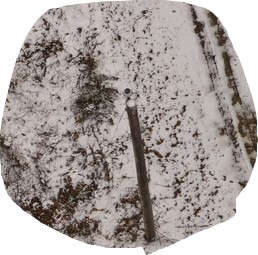pole: (97, 77, 169, 245)
